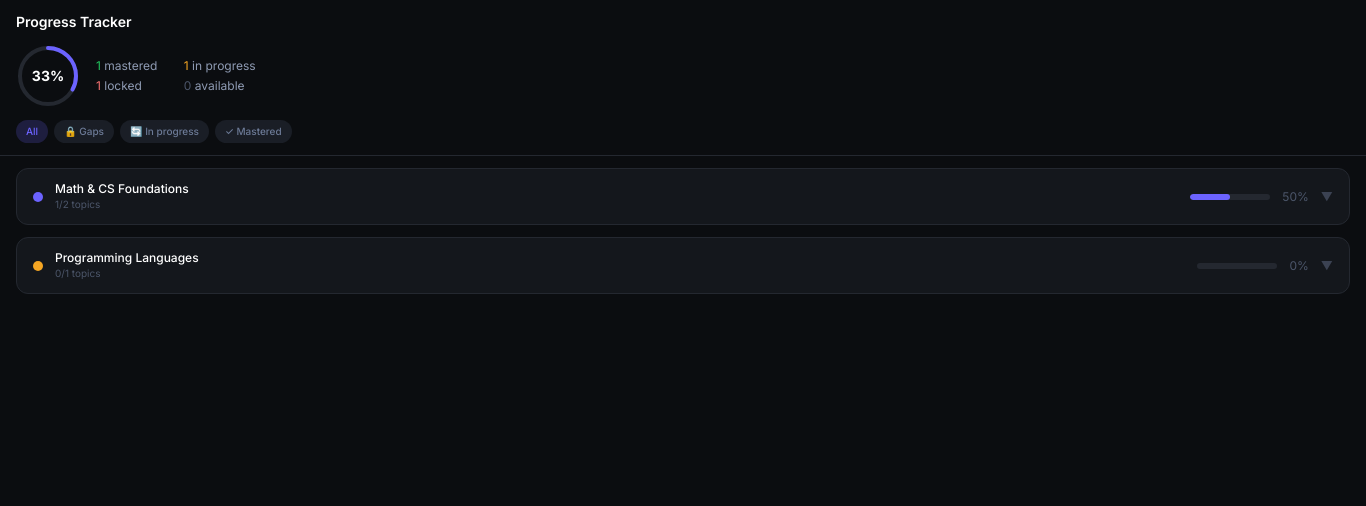
ProgressView › can expand a module to see topics
The image size is (1366, 506).
Note: Click on Math & CS Foundations to expand
Click the text "Math & CS Foundations" at (122, 188), box [55,181,189,196]
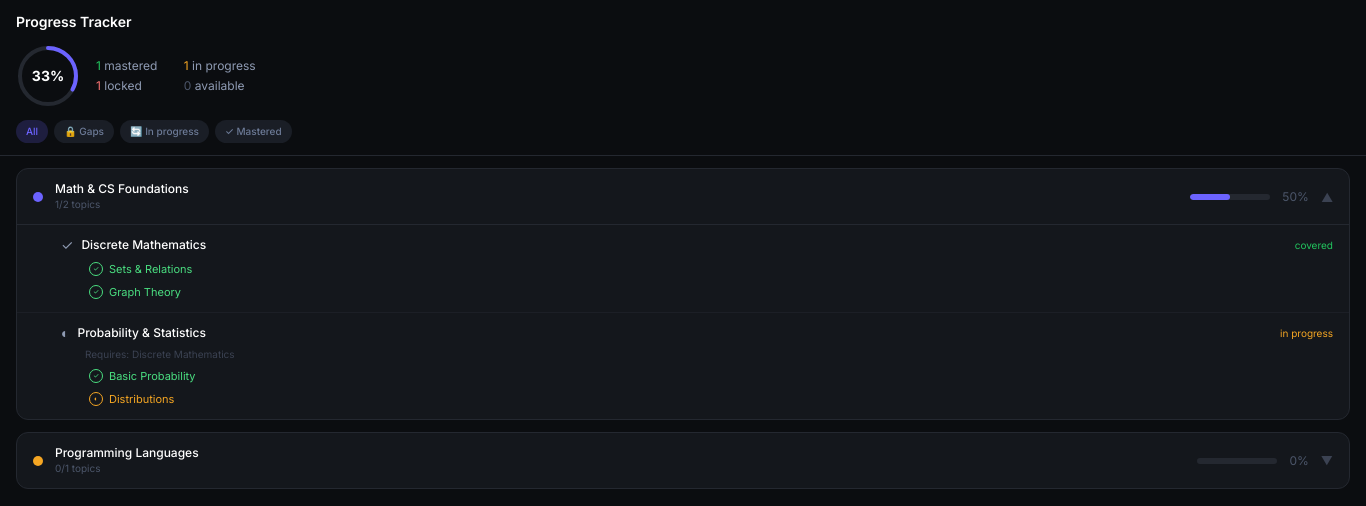
Now the text "Discrete Mathematics" is shown, box [81,237,206,253]
Now the text "Probability & Statistics" is shown, box [78,325,206,341]
